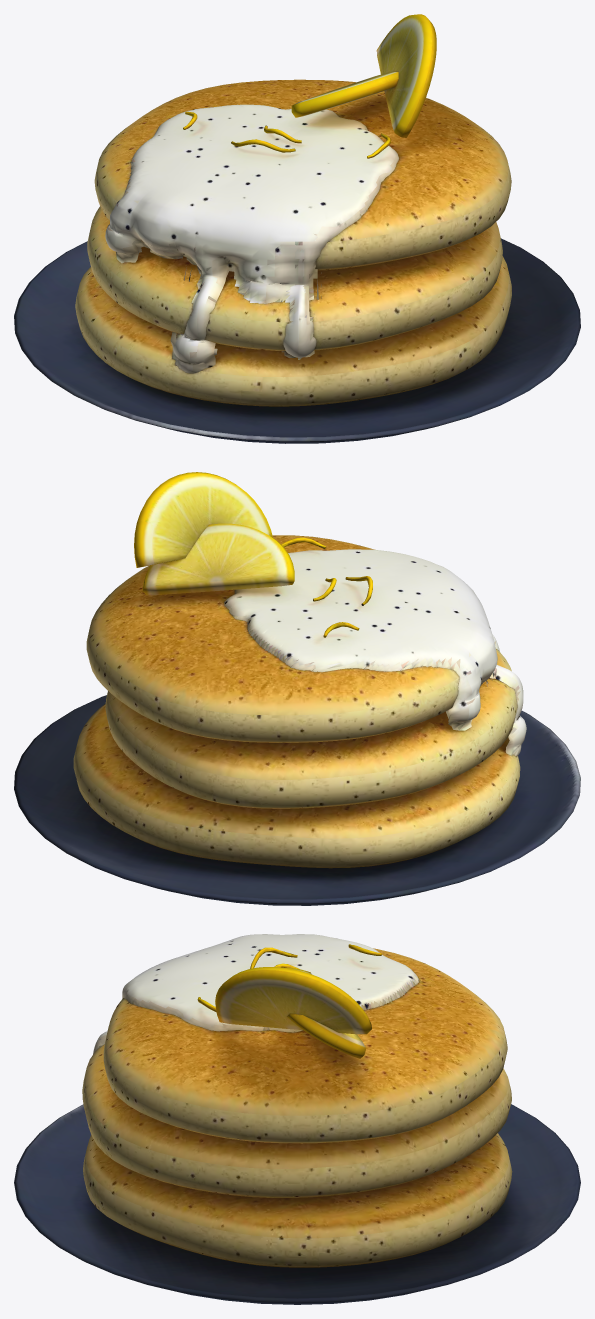
Rendered from pancake--poppyseed-seed.glb.
3 views of the same model, one above another, from view 1: azimuth 30°, elevation 25°; view 2: azimuth 150°, elevation 25°; view 3: azimuth 270°, elevation 25° (orthographic).
Visible parts, largest first — view 1: pancake_poppyseed-seed; view 2: pancake_poppyseed-seed; view 3: pancake_poppyseed-seed.
Part boxes in pixels (bbox=[...]): pancake_poppyseed-seed: bbox=[14, 14, 580, 443]; pancake_poppyseed-seed: bbox=[14, 472, 580, 905]; pancake_poppyseed-seed: bbox=[14, 934, 580, 1304].
Size of the model in its own units: 1.14 by 0.6637 by 1.14.
Materials: 1 (1 with a texture image).
